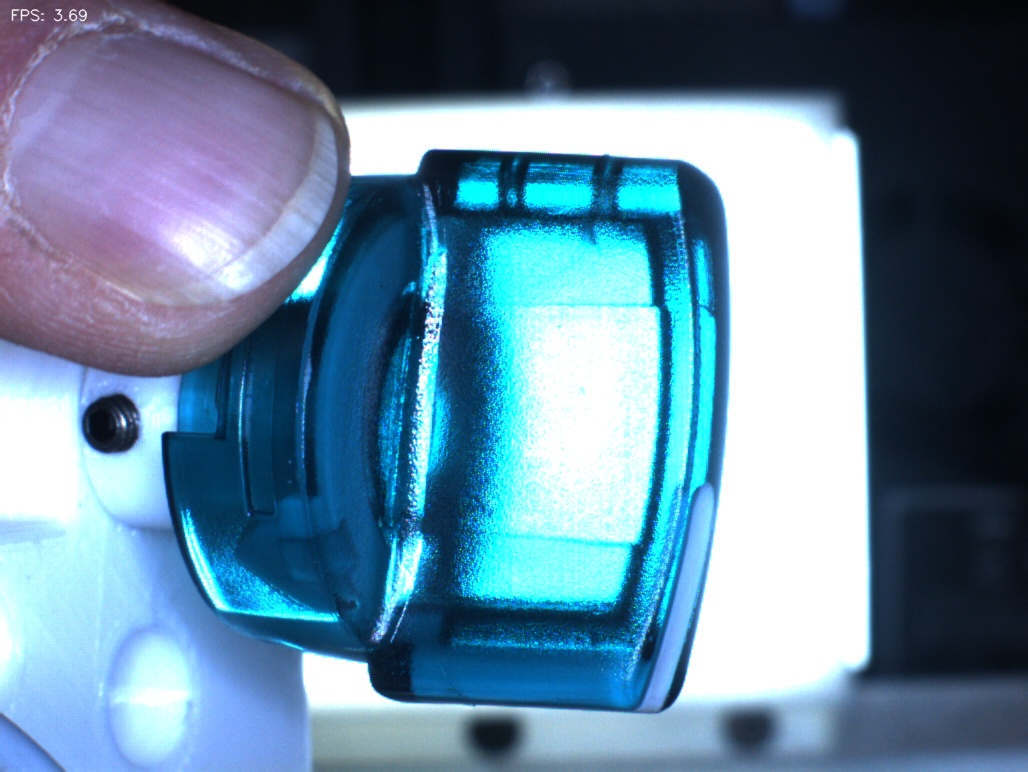Bulle: (469, 137, 553, 208)
